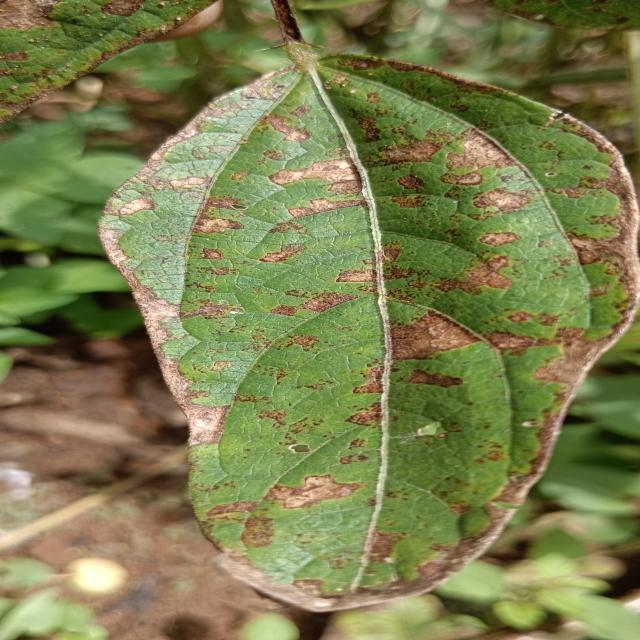Black gram_leaf spot: (101, 49, 635, 608)
